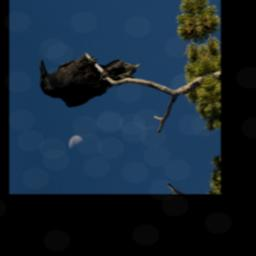Crow: (35, 30, 146, 116)
